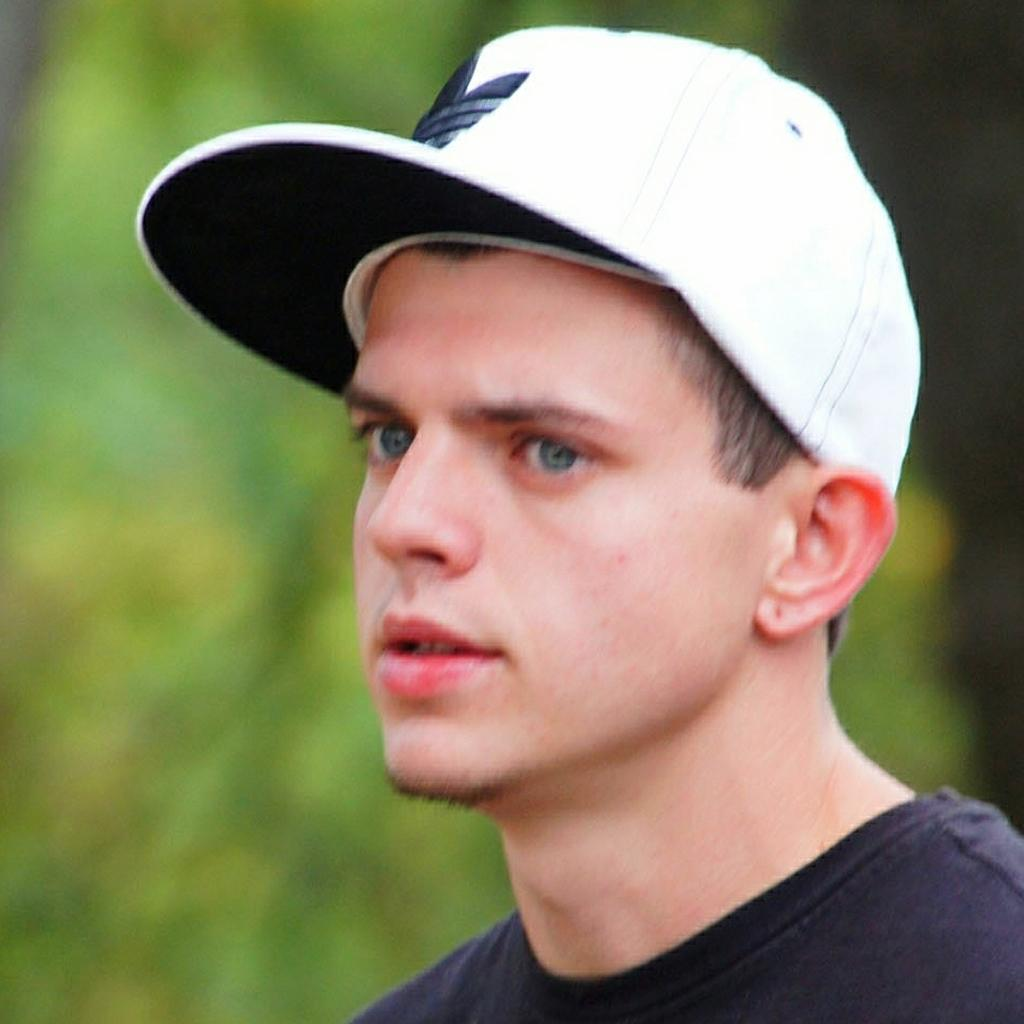Hat: (136, 21, 921, 504)
